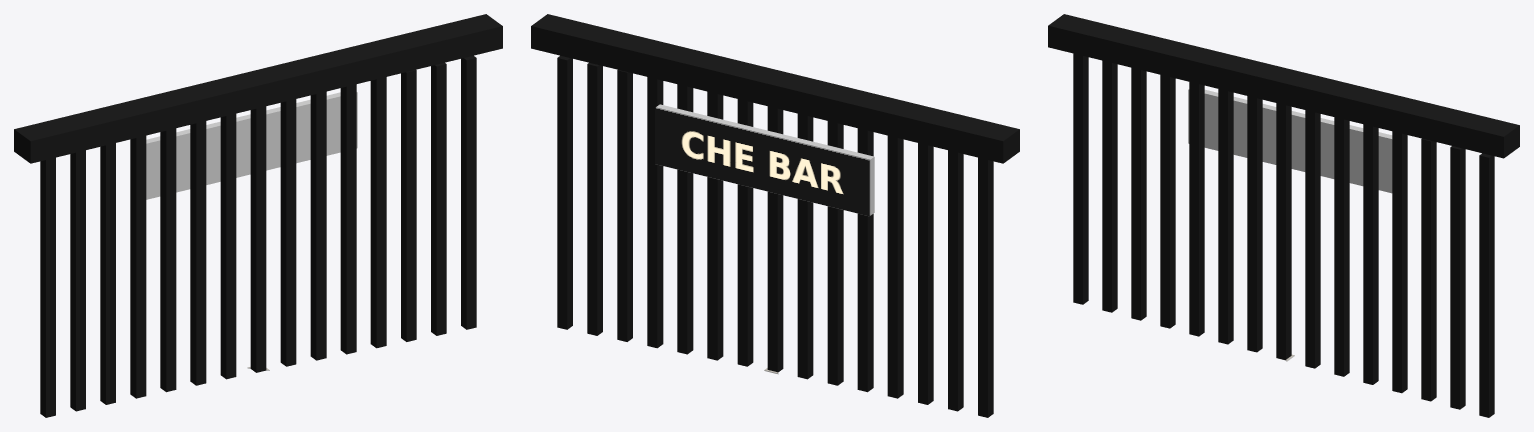
Rendered from chebar_slats.glb.
3 renders of one model, left to right at view 1: azimuth 30°, elevation 25°; view 2: azimuth 150°, elevation 25°; view 3: azimuth 330°, elevation 25°, orthographic. The views are drawn at different scales.
Parts seen in each view (by area): view 1: chebar_slats_lod0; view 2: chebar_slats_lod0; view 3: chebar_slats_lod0.
Part boxes in pixels (x1,y1,x2,y2): chebar_slats_lod0: [14, 14, 502, 417]; chebar_slats_lod0: [531, 14, 1019, 417]; chebar_slats_lod0: [1048, 14, 1519, 417].
Size of what is drawn, in the model's own units: 6.6 by 4.01 by 0.5197.
Materials: 5 (1 with a texture image).
